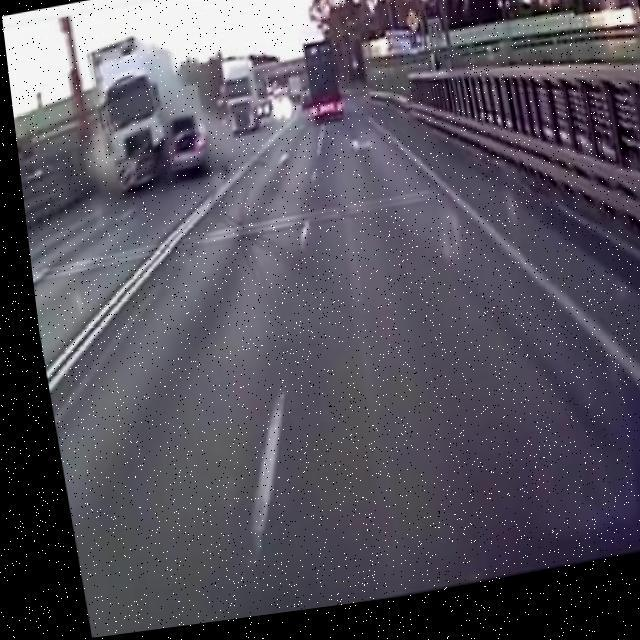Car Accident Detector - v4 Generation1 Exported: (74, 22, 219, 209)
